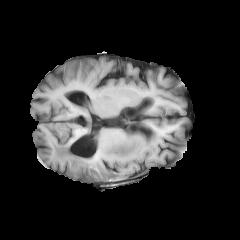glioma: (52, 140, 156, 182)
